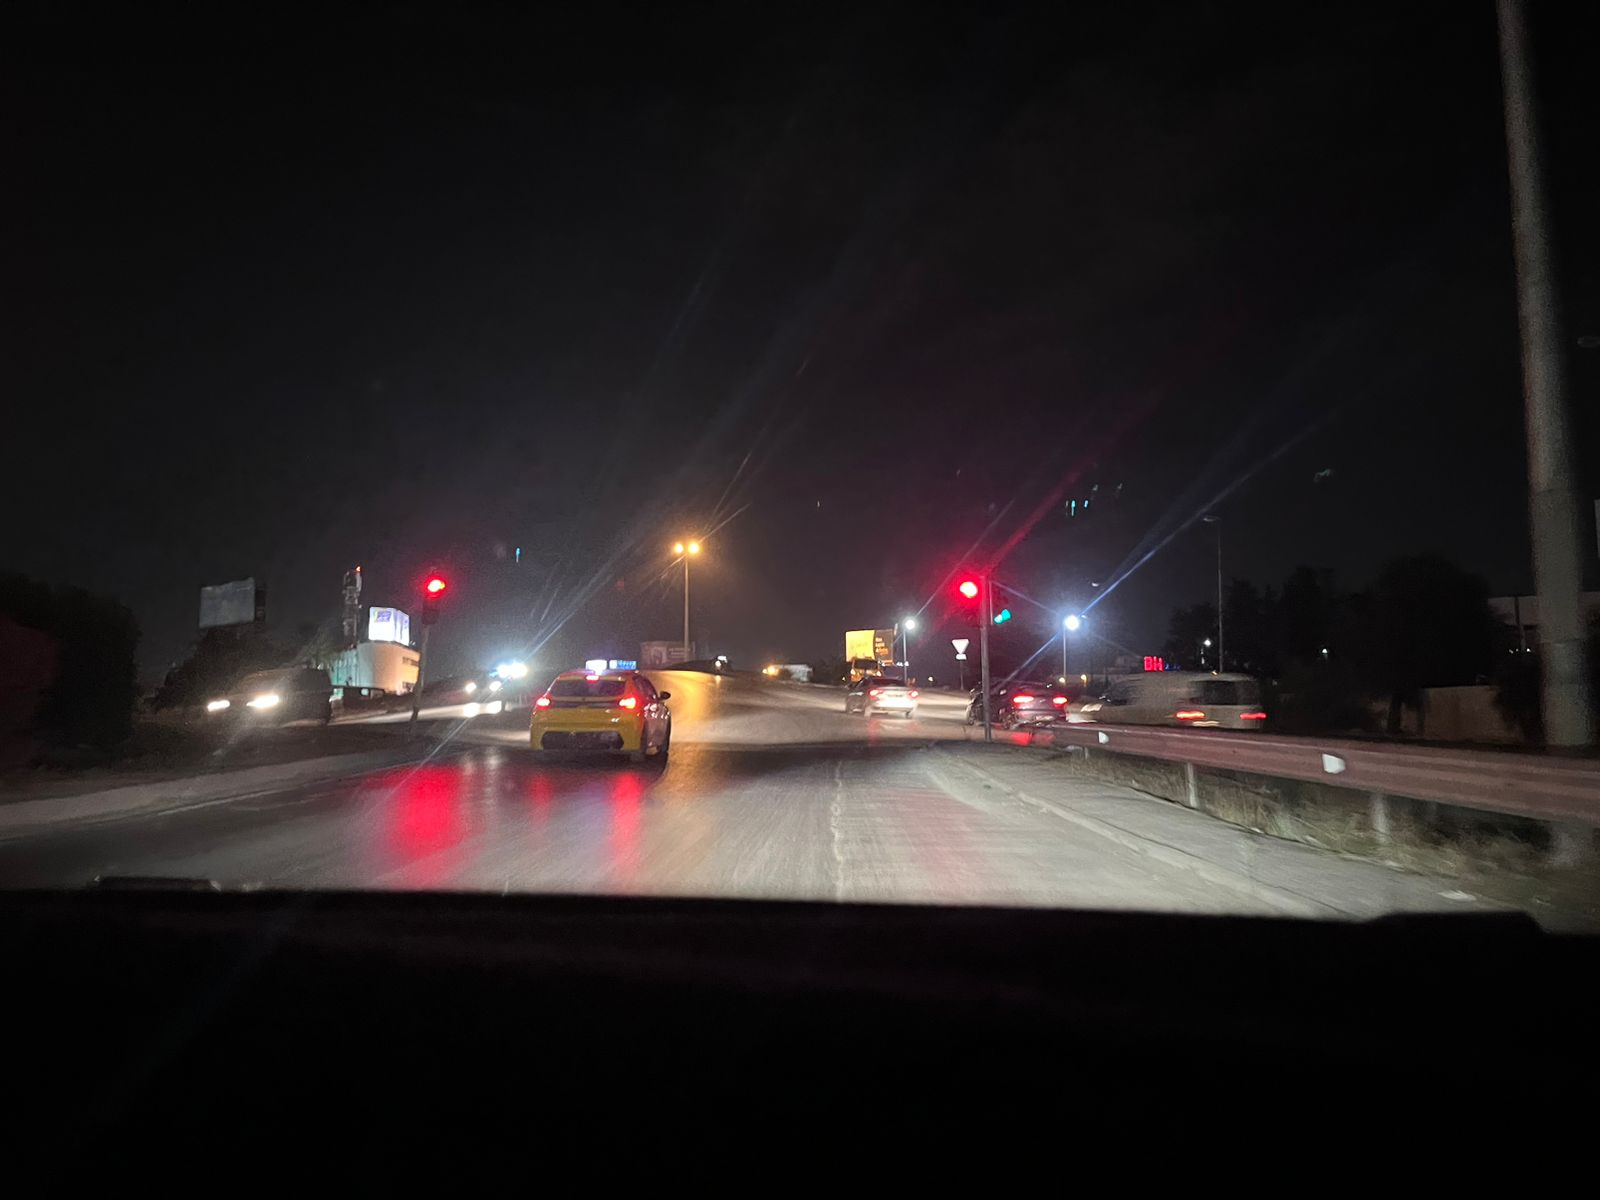RedLight: (423, 572, 446, 630), (960, 580, 981, 630)
